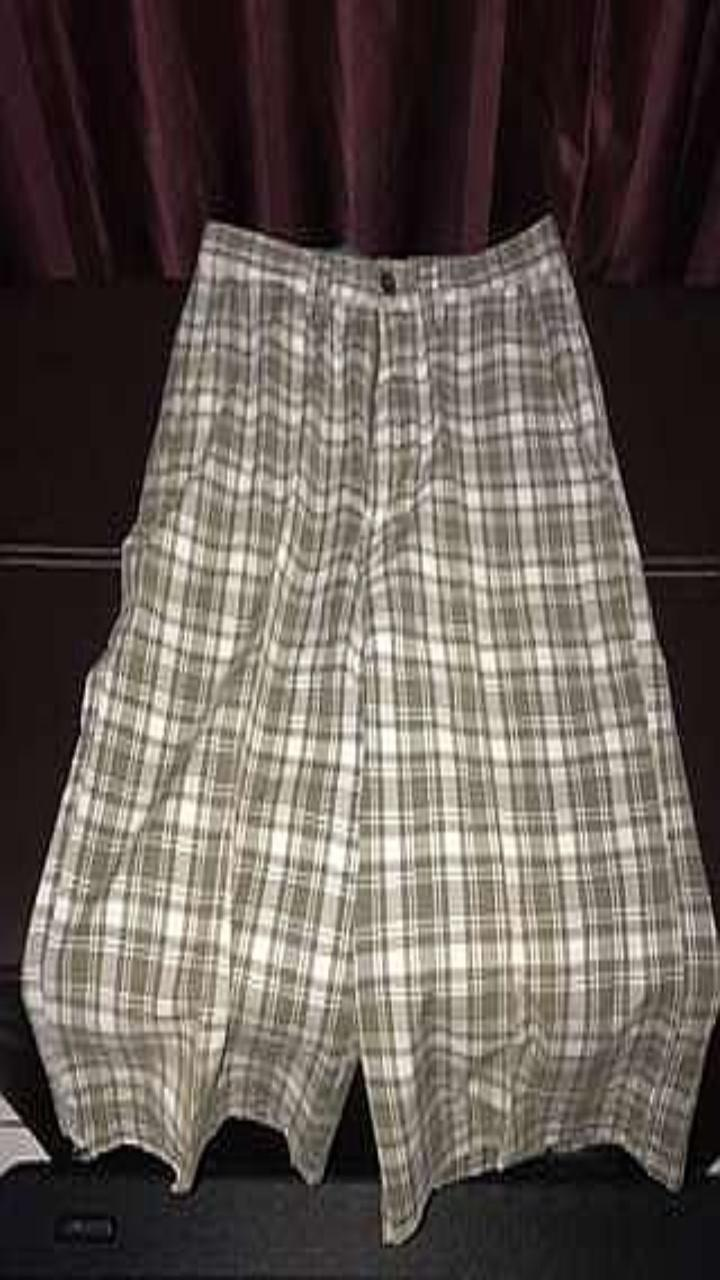Shorts: (22, 216, 719, 1242)
